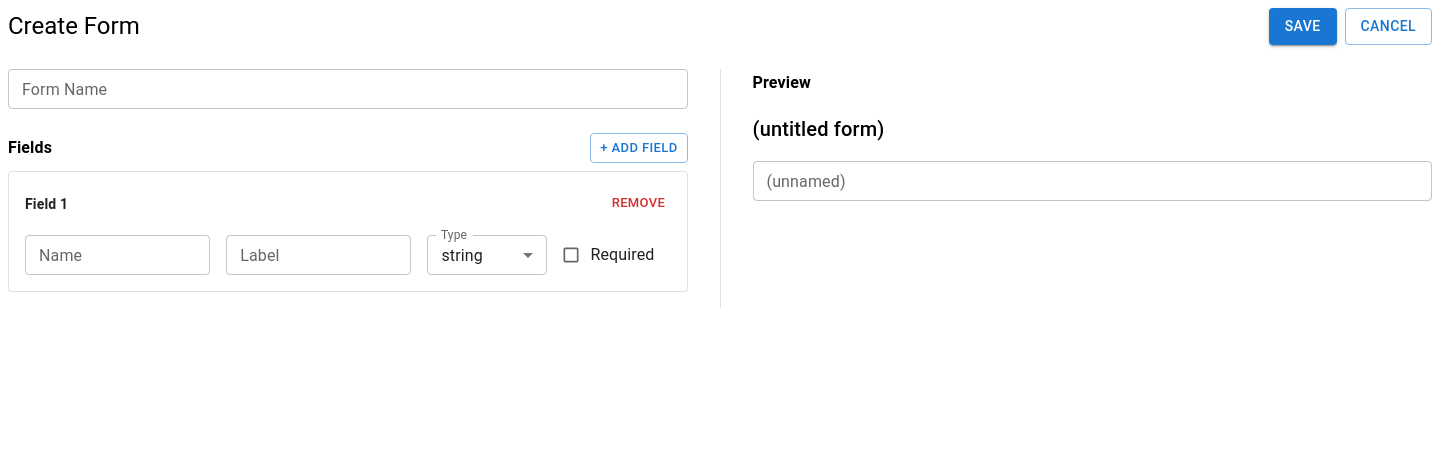
it: FormBuilder › adds and removes fields
The image size is (1440, 462).
Click the button "+ Add Field": [639, 148] box [590,132,688,163]
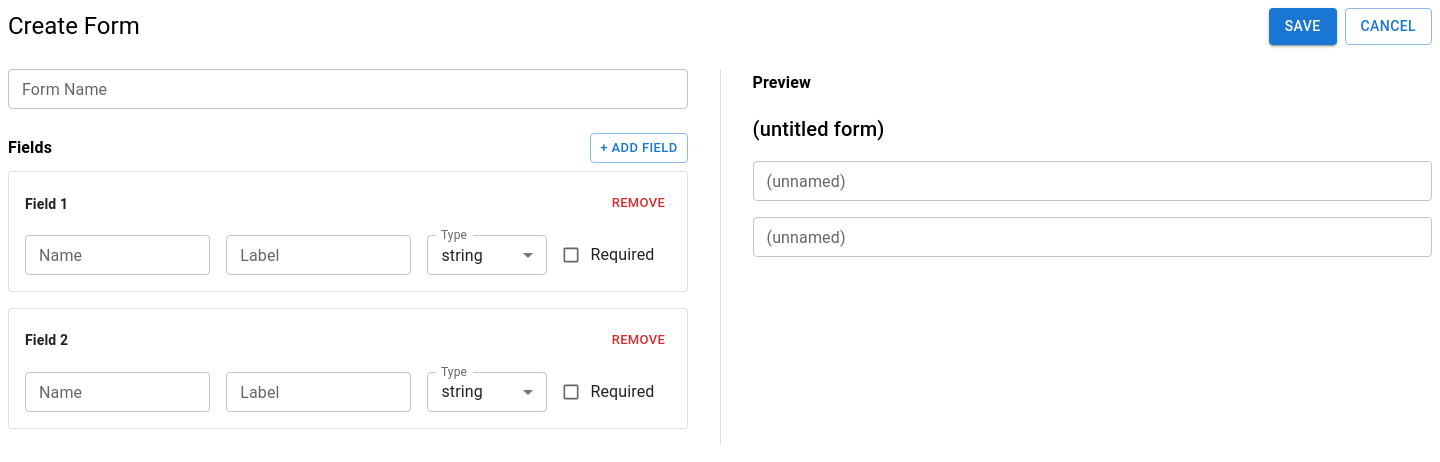
Expected: the text "Field 2" is shown, [25,330,68,350]
Click the 2nd button "Remove": [638, 340] box [606,325,670,356]
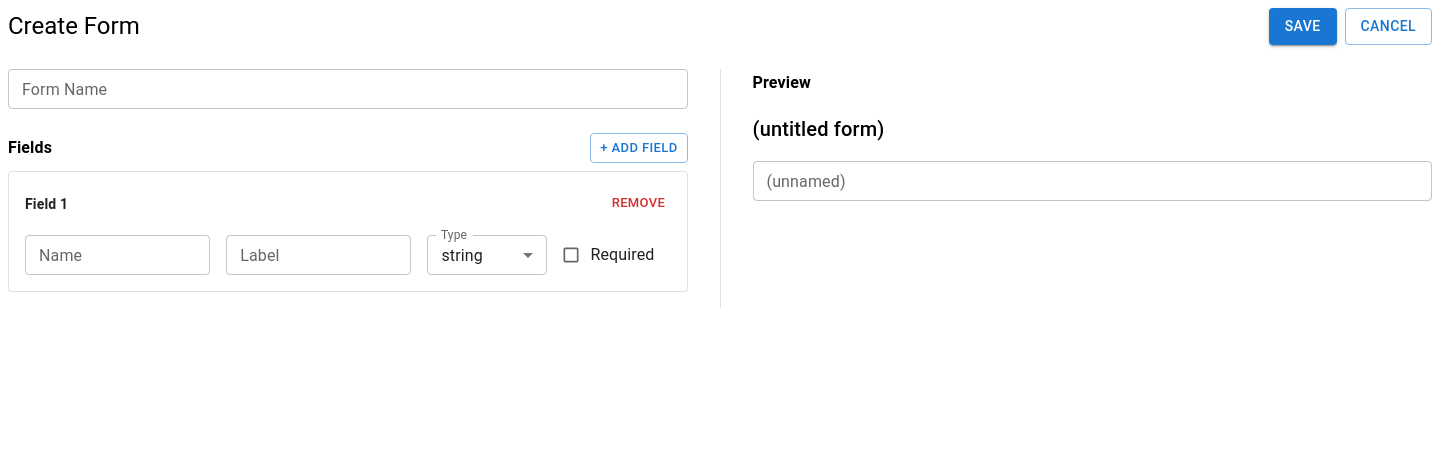
Expected: the text "Field 2" is gone
